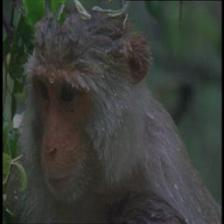monkey: (16, 0, 160, 216)
